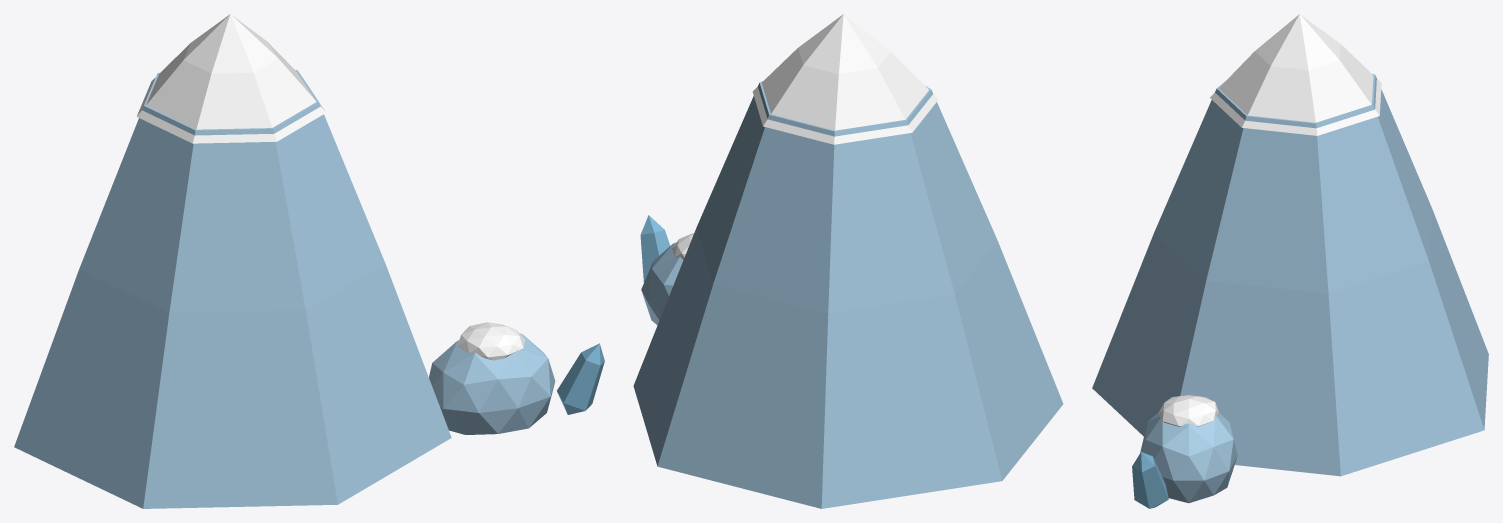
File: ice-g1.glb
The picture shows the model from 3 angles, left to right: view 1: azimuth 30°, elevation 25°; view 2: azimuth 150°, elevation 25°; view 3: azimuth 270°, elevation 25°; orthographic projection. The views are drawn at different scales.
Parts seen in each view (by area): view 1: ice-g1; view 2: ice-g1; view 3: ice-g1.
Boxes of the visible parts, x1,y1,x2,y2 form: ice-g1: [14, 14, 604, 508]; ice-g1: [633, 14, 1063, 508]; ice-g1: [1092, 14, 1488, 508].
Bounding box in the file's own units: 1.47 × 1.2 × 1.15.
